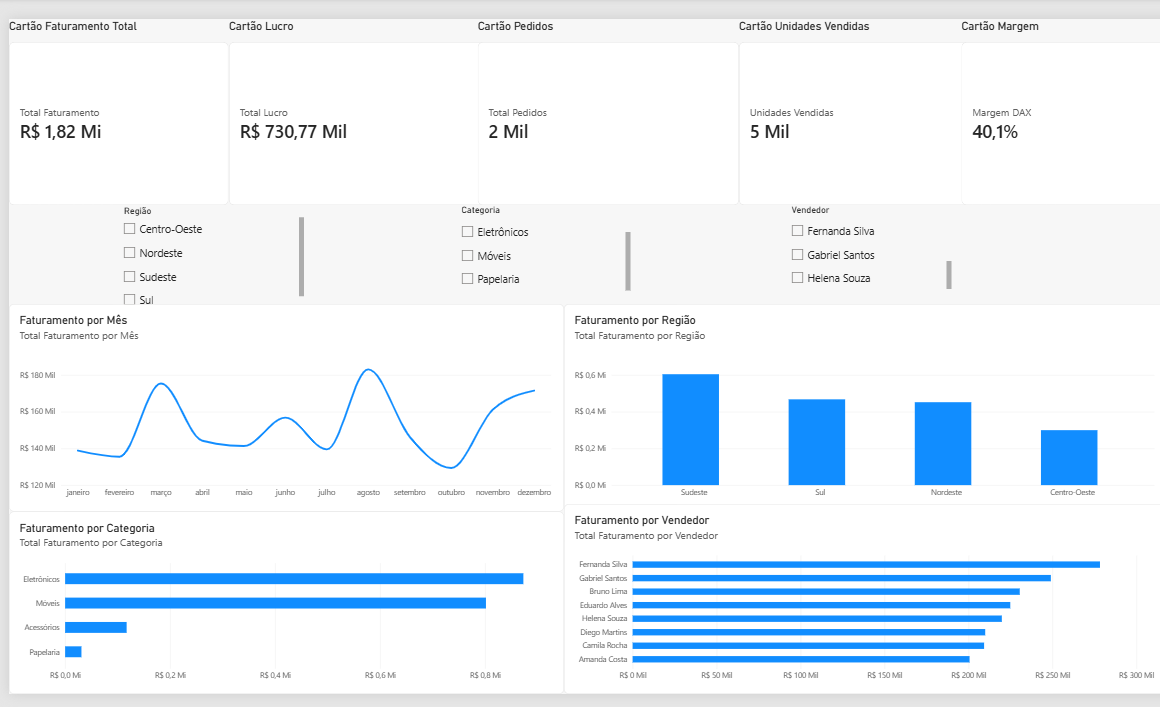

Layout of this report page (visuals, bound fields, positions):
{"tool":"powerbi","page":{"name":"Página 1","canvas":[1920,1080],"ordinal":0},"visuals":[{"type":"cardVisual","title":"Cartão Faturamento Total","fields":{"Data":["Vendas_Tratadas1.Total Faturamento"]},"box":[0,0,352,298.5],"z":0},{"type":"cardVisual","title":"Cartão Lucro","fields":{"Data":["Vendas_Tratadas1.Total Lucro"]},"box":[352,0,418,298],"z":1000},{"type":"cardVisual","title":"Cartão Pedidos","fields":{"Data":["Vendas_Tratadas1.Total Pedidos"]},"box":[749.2,0,418,298],"z":2000},{"type":"cardVisual","title":"Cartão Unidades Vendidas","fields":{"Data":["Vendas_Tratadas1.Unidades Vendidas"]},"box":[1167.1,0,418,298],"z":3000},{"type":"cardVisual","title":"Cartão Margem","fields":{"Data":["Vendas_Tratadas1.Margem DAX"]},"box":[1524,0,326,298],"z":4000},{"type":"lineChart","title":"Faturamento por Mês","fields":{"Category":["Vendas_Tratadas1.Data_Pedido.Variation.Hierarquia de datas.Ano","Vendas_Tratadas1.Data_Pedido.Variation.Hierarquia de datas.Trimestre","Vendas_Tratadas1.Data_Pedido.Variation.Hierarquia de datas.Mês","Vendas_Tratadas1.Data_Pedido.Variation.Hierarquia de datas.Dia"],"Y":["Vendas_Tratadas1.Total Faturamento"]},"box":[0,456,888,332],"z":5000},{"type":"clusteredColumnChart","title":"Faturamento por Região","fields":{"Category":["Vendas_Tratadas1.Região"],"Y":["Vendas_Tratadas1.Total Faturamento"]},"box":[888,456,962,332],"z":6000},{"type":"clusteredBarChart","title":"Faturamento por Categoria","fields":{"Category":["Vendas_Tratadas1.Categoria"],"Y":["Vendas_Tratadas1.Total Faturamento"]},"box":[0,788,888,292],"z":7000},{"type":"clusteredBarChart","title":"Faturamento por Vendedor","fields":{"Category":["Vendas_Tratadas1.Vendedor"],"Y":["Vendas_Tratadas1.Total Faturamento"]},"box":[888,776,962,304],"z":8000},{"type":"slicer","fields":{"Values":["Vendas_Tratadas1.Região"]},"box":[176,298,296,158],"z":9000},{"type":"slicer","fields":{"Values":["Vendas_Tratadas1.Categoria"]},"box":[716,296,278,138],"z":10000},{"type":"slicer","fields":{"Values":["Vendas_Tratadas1.Vendedor"]},"box":[1244,296,264,136],"z":11000}]}

Visuals, with their boxes on the page's 1920x1080 design canvas (x1, y1, x2, y2). These are canvas units, not pixel positions in the 1160x707 screenshot, which may show the page scaled, cropped or inside an application window:
"Cartão Faturamento Total" cardVisual: pyautogui.locateOnScreen(0, 0, 352, 298)
"Cartão Lucro" cardVisual: pyautogui.locateOnScreen(352, 0, 770, 298)
"Cartão Pedidos" cardVisual: pyautogui.locateOnScreen(749, 0, 1167, 298)
"Cartão Unidades Vendidas" cardVisual: pyautogui.locateOnScreen(1167, 0, 1585, 298)
"Cartão Margem" cardVisual: pyautogui.locateOnScreen(1524, 0, 1850, 298)
"Faturamento por Mês" lineChart: pyautogui.locateOnScreen(0, 456, 888, 788)
"Faturamento por Região" clusteredColumnChart: pyautogui.locateOnScreen(888, 456, 1850, 788)
"Faturamento por Categoria" clusteredBarChart: pyautogui.locateOnScreen(0, 788, 888, 1080)
"Faturamento por Vendedor" clusteredBarChart: pyautogui.locateOnScreen(888, 776, 1850, 1080)
slicer - Vendas_Tratadas1.Região: pyautogui.locateOnScreen(176, 298, 472, 456)
slicer - Vendas_Tratadas1.Categoria: pyautogui.locateOnScreen(716, 296, 994, 434)
slicer - Vendas_Tratadas1.Vendedor: pyautogui.locateOnScreen(1244, 296, 1508, 432)
